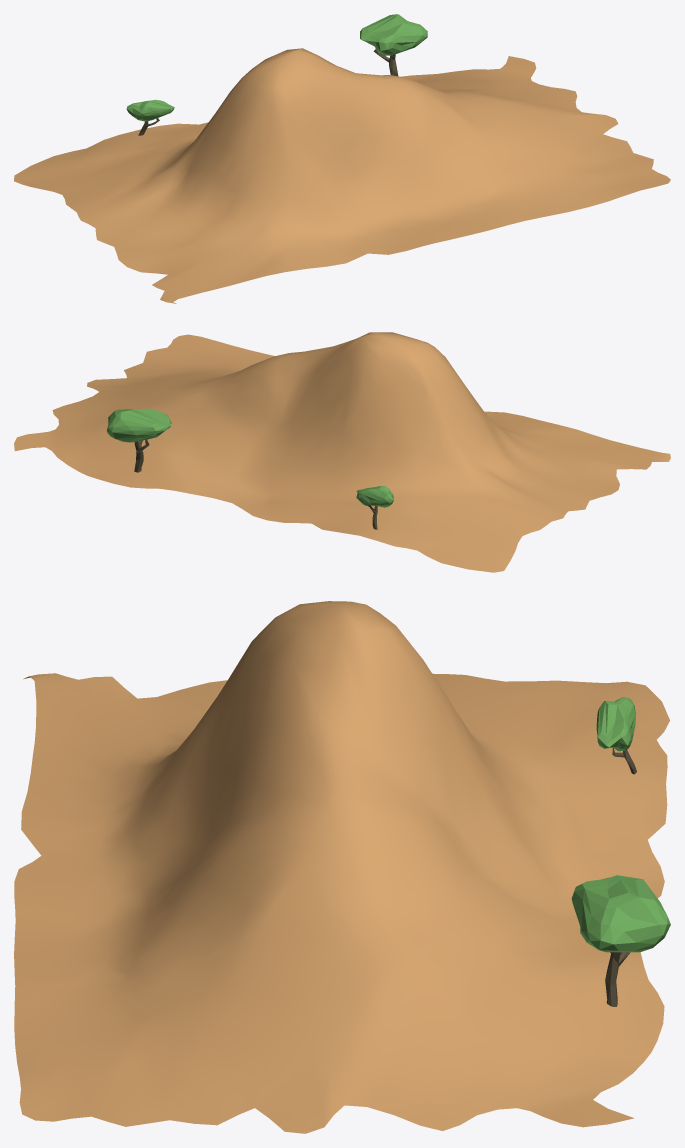
The model's file is farground3.fbx.
3 renders of one model, top to bottom at view 1: azimuth 30°, elevation 25°; view 2: azimuth 150°, elevation 25°; view 3: azimuth 270°, elevation 25°, orthographic. The views are drawn at different scales.
Parts seen in each view (by area): view 1: pasted__pPlane17; view 2: pasted__pPlane17; view 3: pasted__pPlane17.
Part boxes in pixels (<box>): pasted__pPlane17: <box>14,14,670,303</box>; pasted__pPlane17: <box>14,332,670,572</box>; pasted__pPlane17: <box>14,601,670,1133</box>.
Size of the model in its own units: 1590 by 403 by 948.
